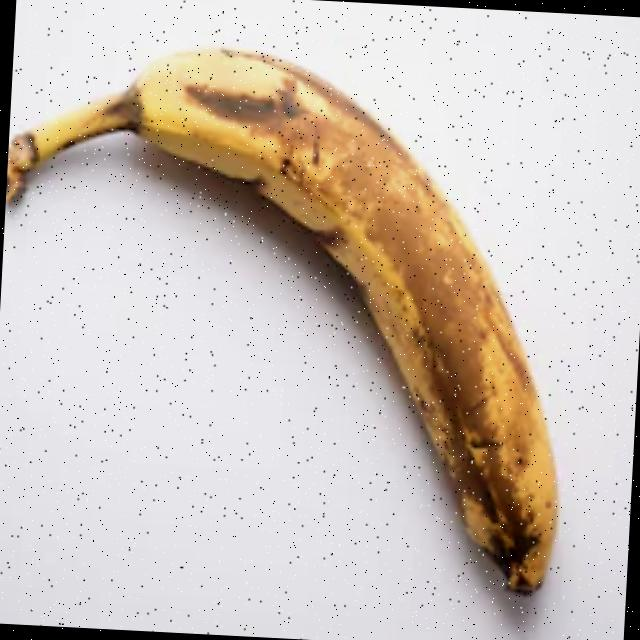overripe: (0, 33, 585, 594)
